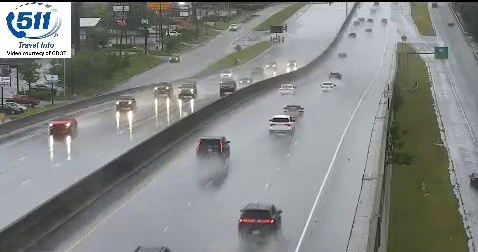car: (239, 204, 282, 238), (197, 136, 230, 158), (268, 115, 294, 133), (283, 105, 304, 119), (280, 83, 295, 95), (321, 81, 334, 93)
